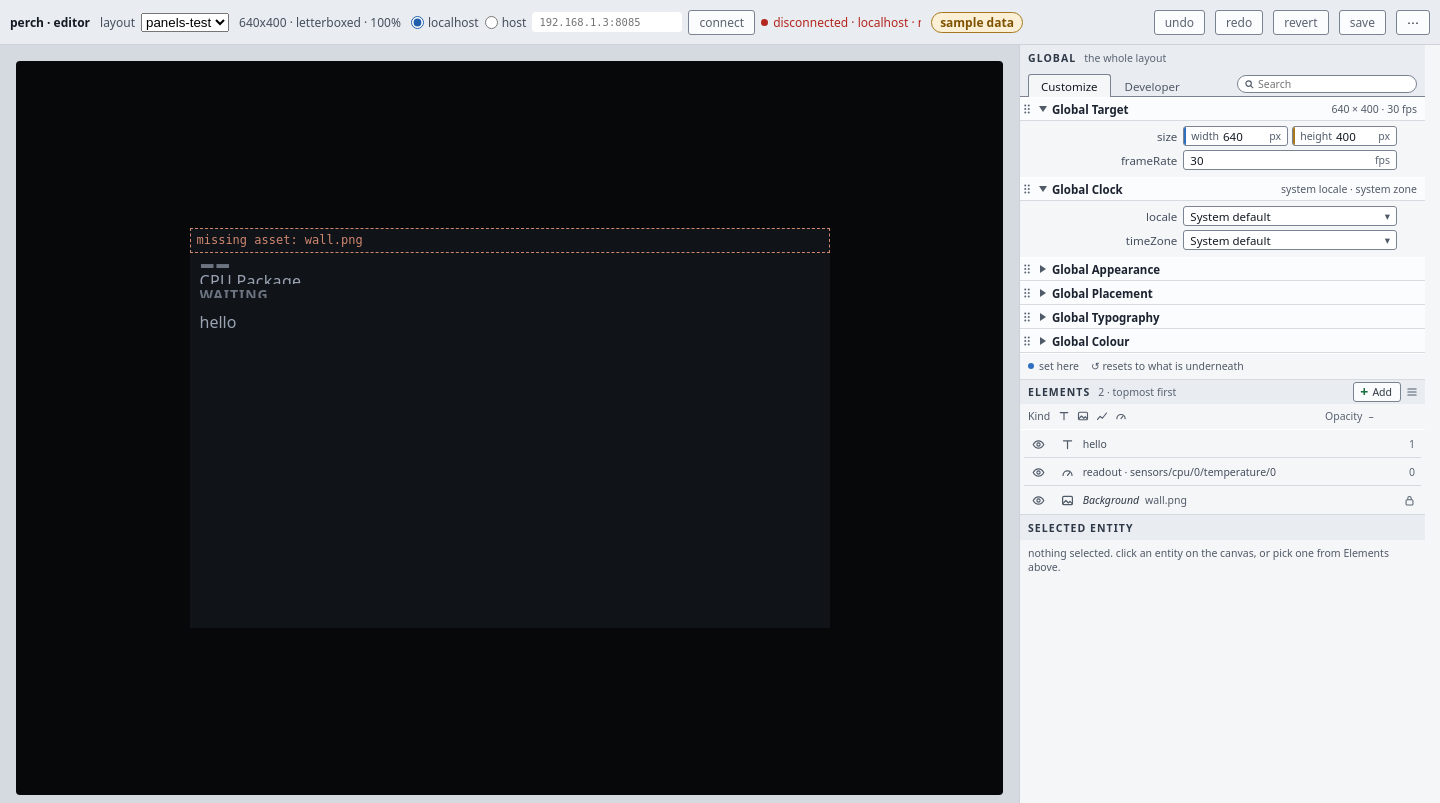
it: the text field › drops the label column: the label sits above, and the field spans the row
This screenshot has width=1440, height=803.
Click the button "hello 1". click: [1067, 444]
box: [1052,430,1421,458]
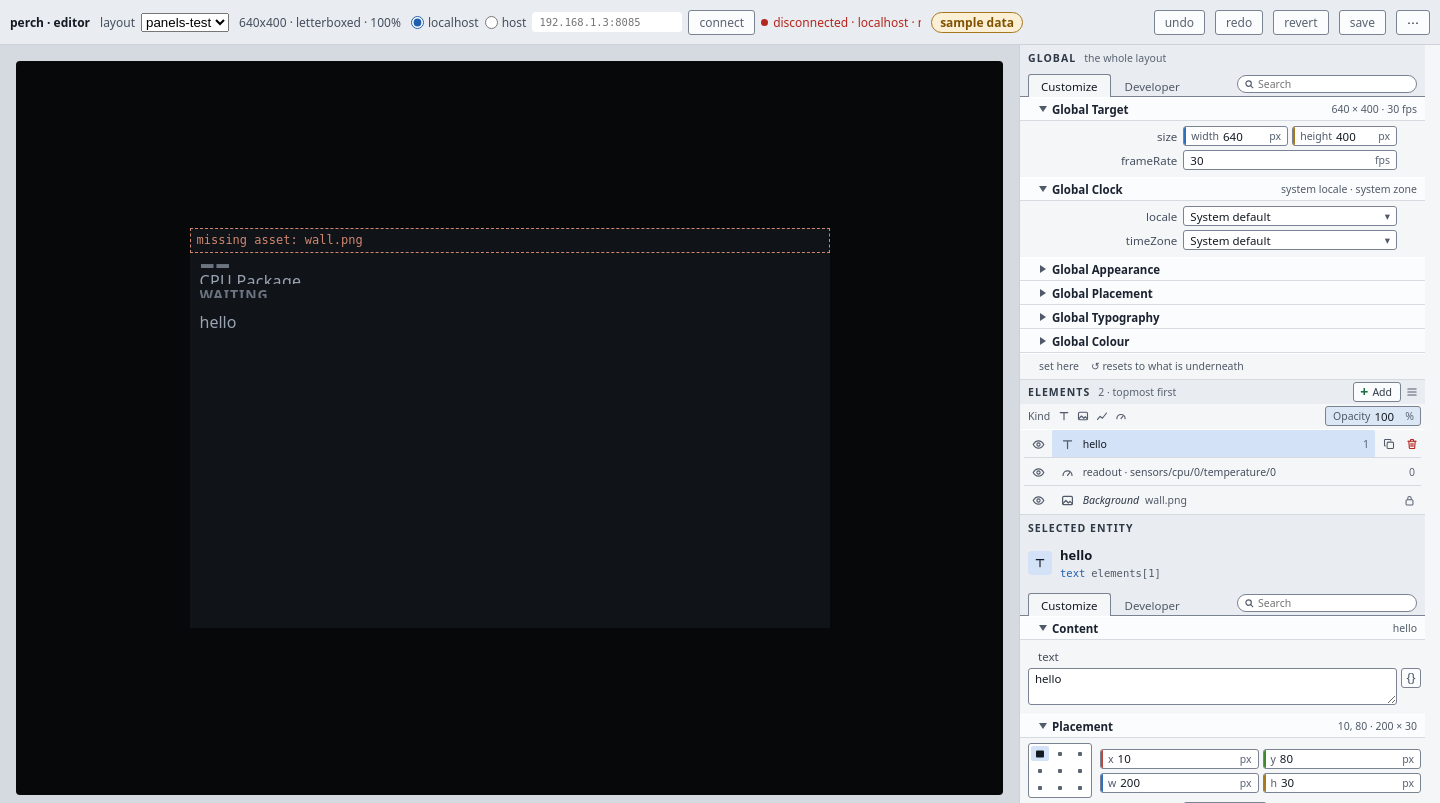
Expected: the text "text" is shown, [1038,649,1059,664]
Expected: the button named "insert a sensor" is shown, [1401,668,1421,688]
